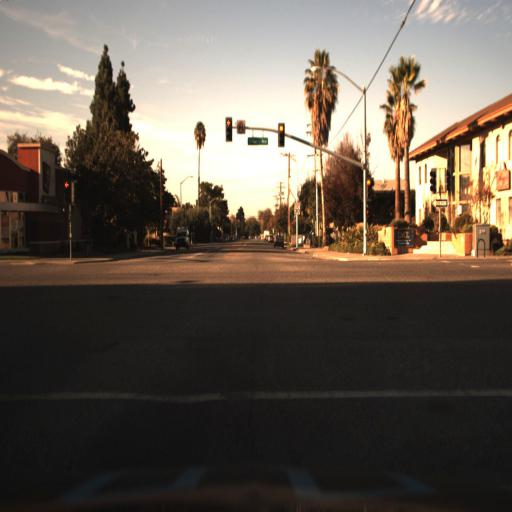car: (170, 222, 192, 256), (270, 231, 286, 253)
trafficLight-Red: (275, 117, 286, 151), (363, 174, 374, 205)
trafficLight-RedLeft: (60, 178, 73, 209), (224, 117, 234, 144)
